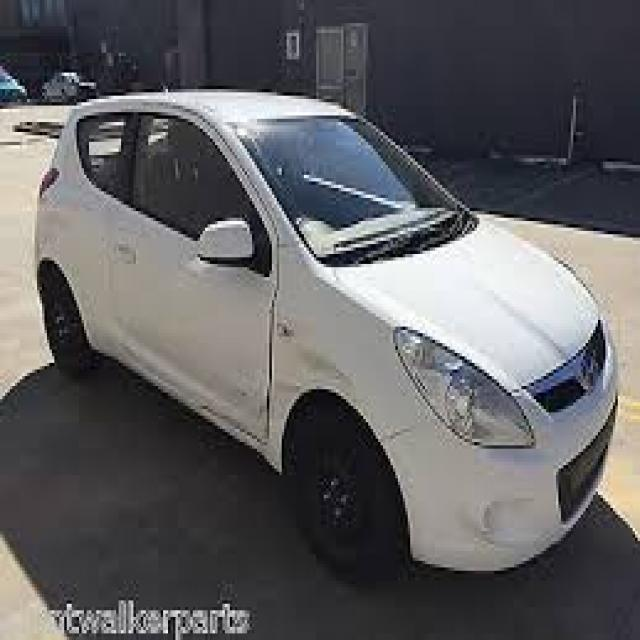minor: (476, 460, 544, 564), (276, 308, 306, 355)
